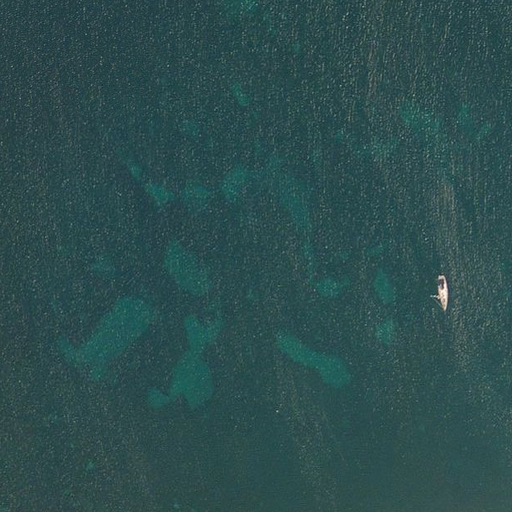ship: (434, 272, 449, 313)
